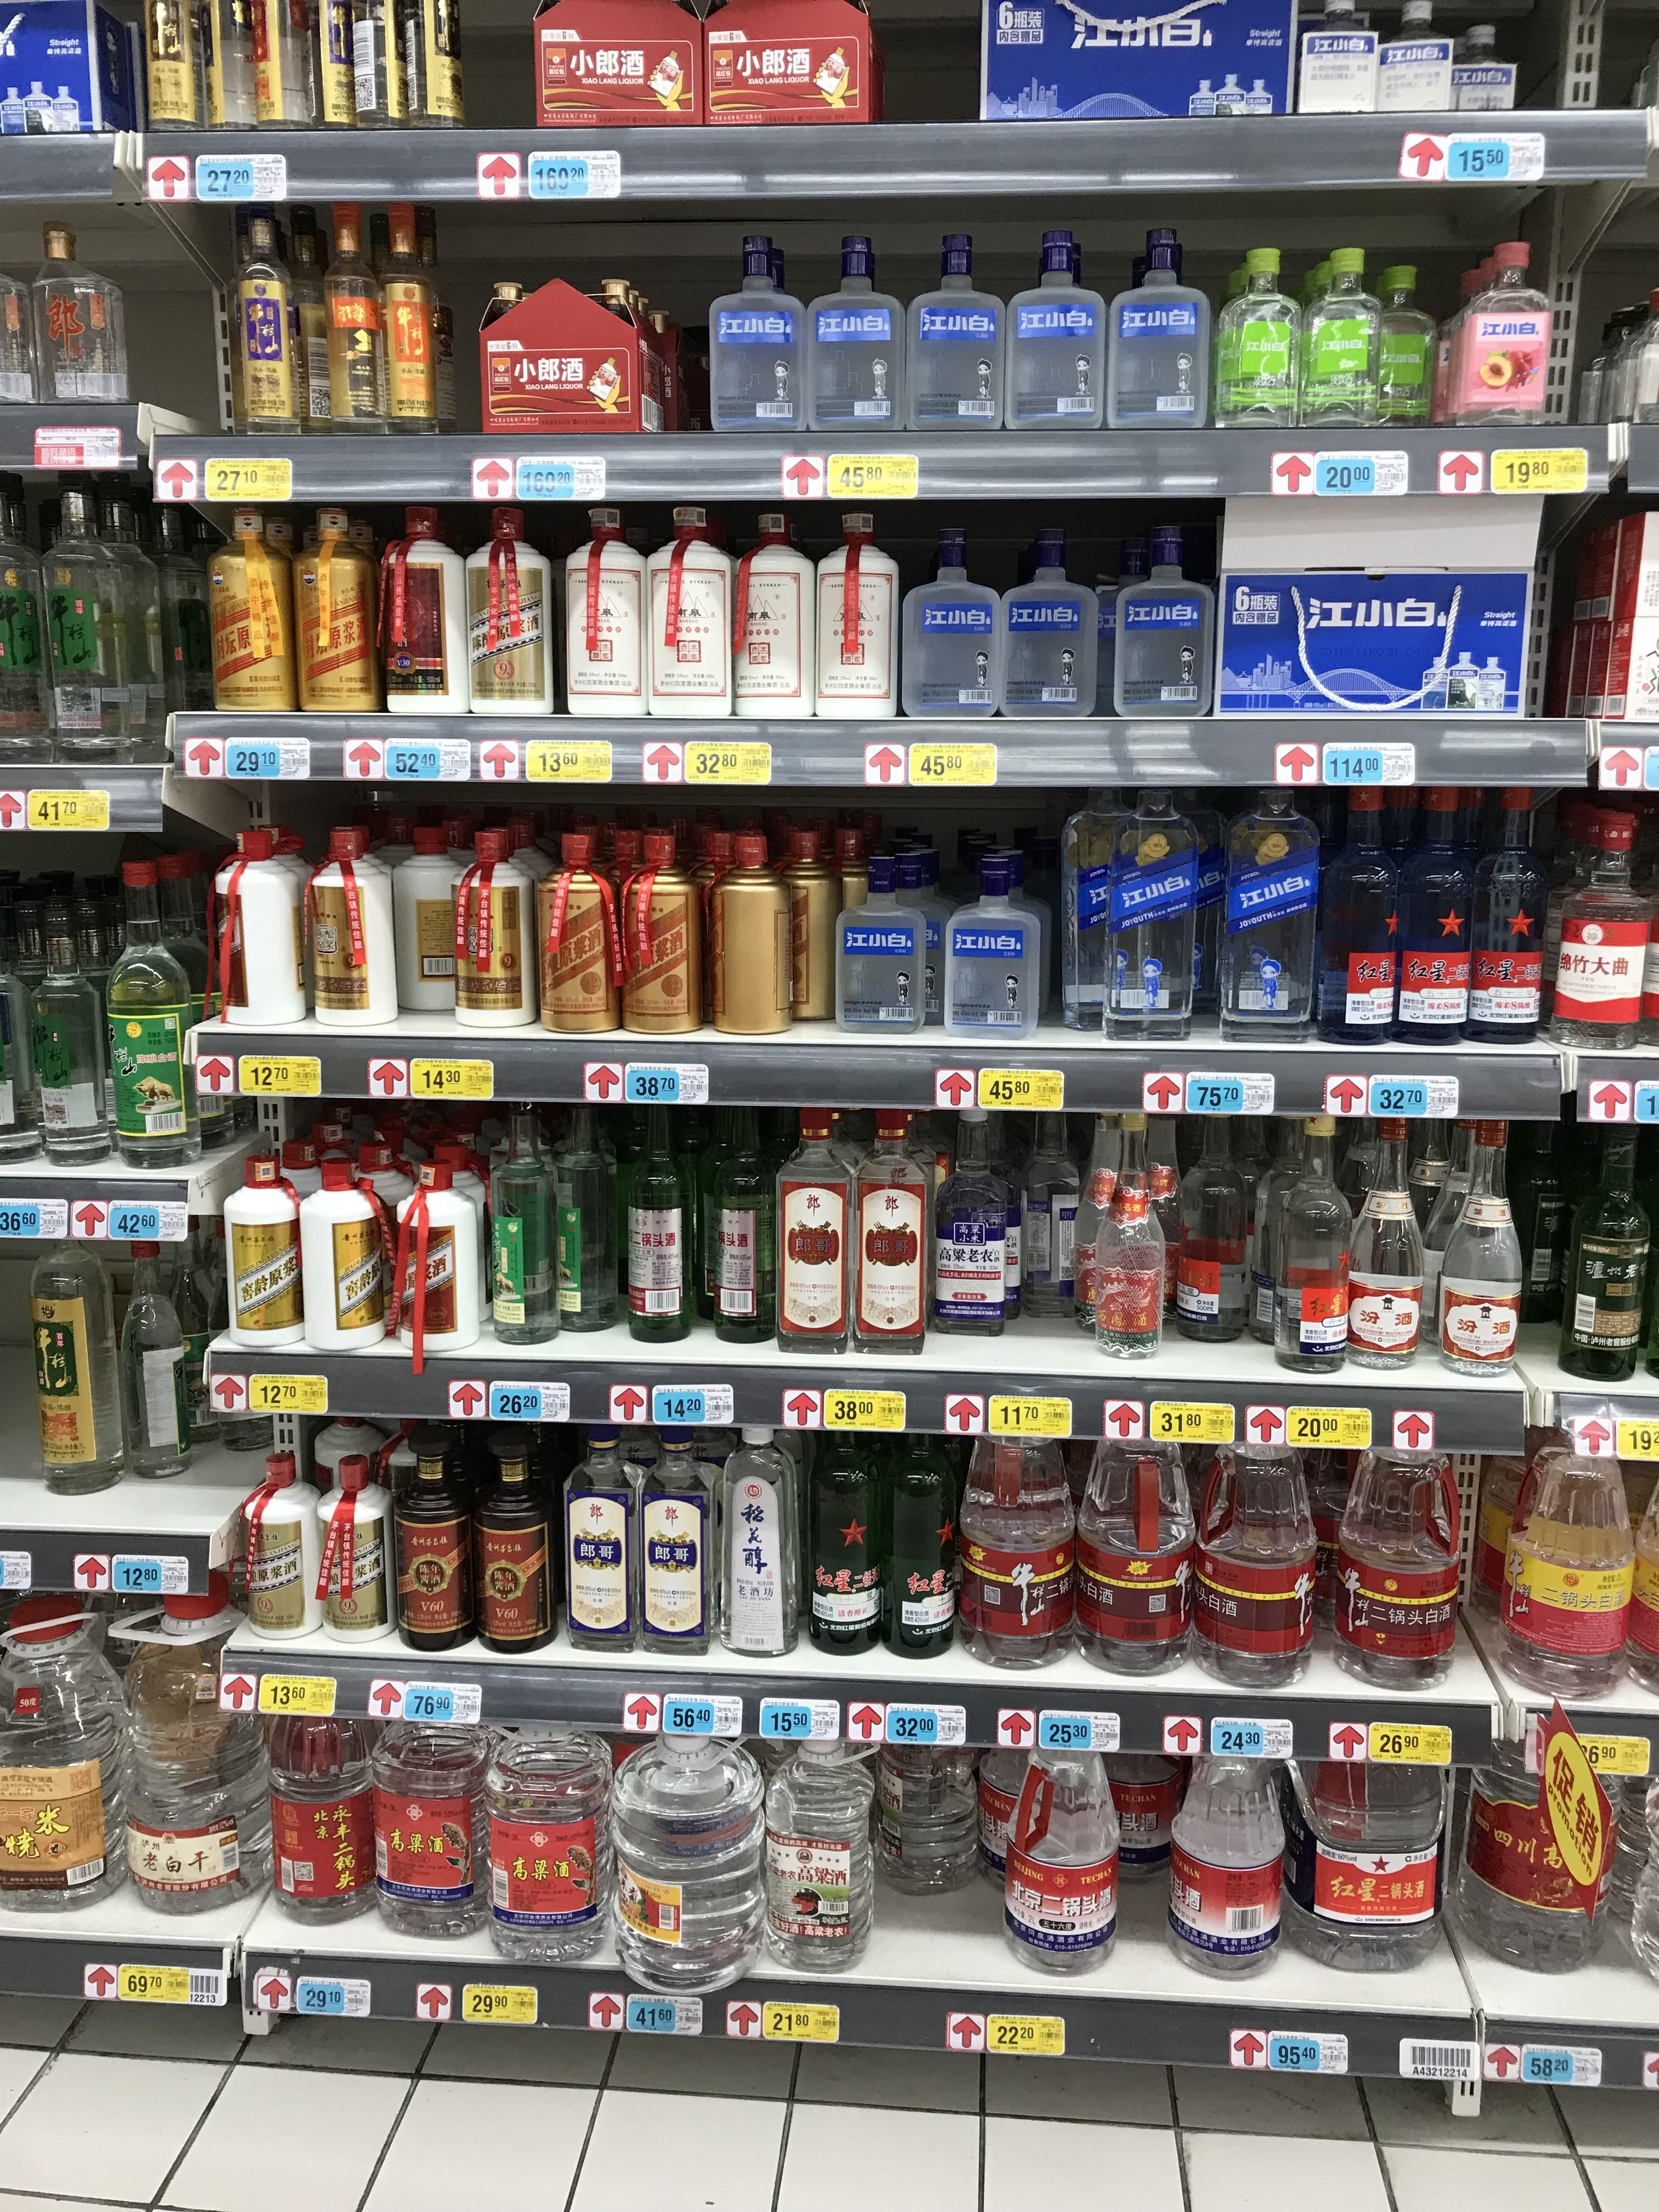bag: (1554, 453, 1656, 732), (488, 265, 645, 444), (410, 1151, 483, 1353)
bottle: (120, 1590, 260, 1918), (610, 1717, 769, 1991), (1462, 1761, 1638, 1991), (0, 1602, 124, 1907), (1497, 1420, 1633, 1695), (1291, 1716, 1446, 1956), (1187, 1409, 1317, 1688), (1331, 1413, 1466, 1681), (30, 474, 146, 768), (1077, 1404, 1195, 1679), (261, 1662, 385, 1925), (103, 857, 206, 1167), (366, 1683, 491, 1928), (756, 1717, 875, 1977), (960, 1407, 1075, 1672), (28, 1207, 134, 1493), (1237, 1413, 1352, 1669), (1162, 1728, 1279, 1977), (1230, 1721, 1344, 1956), (1002, 1730, 1114, 1965), (1558, 1122, 1650, 1381), (1541, 817, 1643, 1049), (863, 1710, 990, 1895), (1389, 784, 1476, 1049), (1438, 1113, 1525, 1378), (1338, 1115, 1427, 1374), (112, 1221, 202, 1475), (1263, 1111, 1351, 1374), (1460, 779, 1546, 1043), (1314, 782, 1399, 1045), (931, 1087, 1021, 1334), (800, 1404, 887, 1658), (716, 1413, 805, 1662), (772, 1094, 856, 1355), (877, 1409, 962, 1663), (291, 482, 380, 723), (1000, 230, 1105, 434), (1108, 521, 1216, 716), (383, 488, 472, 725), (1105, 225, 1204, 428), (854, 1099, 934, 1350), (901, 523, 1002, 721), (1443, 240, 1549, 428), (903, 233, 1000, 437), (214, 482, 296, 725), (708, 242, 807, 441), (239, 1423, 329, 1639), (802, 239, 901, 435), (561, 498, 647, 726), (706, 1089, 779, 1345), (471, 493, 551, 726), (655, 496, 737, 725), (40, 899, 113, 1153), (622, 1087, 695, 1341), (633, 1425, 713, 1656), (732, 500, 814, 725), (397, 1413, 474, 1649), (999, 529, 1093, 719), (474, 1430, 554, 1651), (545, 1092, 619, 1334), (817, 502, 897, 719), (486, 1103, 556, 1348), (563, 1425, 640, 1648), (322, 192, 390, 441), (375, 193, 443, 439), (1509, 1094, 1579, 1329), (624, 834, 702, 1042), (1080, 1157, 1164, 1346), (235, 204, 303, 437), (38, 237, 129, 411), (711, 826, 786, 1035), (1012, 1090, 1086, 1303), (305, 827, 387, 1015), (460, 831, 540, 1022), (544, 833, 620, 1033), (1209, 249, 1297, 423), (223, 1177, 305, 1353), (1297, 249, 1378, 421), (1178, 1153, 1253, 1339), (767, 822, 836, 1019), (1070, 1099, 1131, 1322), (281, 211, 340, 439), (319, 1454, 387, 1637), (1093, 1109, 1155, 1305), (1358, 266, 1429, 425), (343, 2, 415, 134), (192, 5, 263, 138), (132, 3, 202, 136), (403, 3, 472, 136), (249, 3, 319, 134), (1595, 284, 1657, 428), (1565, 279, 1622, 427), (2, 258, 51, 406), (308, 3, 361, 132)
box: (986, 0, 1298, 125), (711, 7, 871, 117)
bucket: (483, 1721, 612, 1940), (1101, 801, 1204, 1038), (941, 850, 1051, 1040), (230, 834, 321, 1019), (296, 1176, 392, 1350), (1086, 1724, 1199, 1869), (392, 843, 462, 1001)
jar: (830, 894, 941, 1031), (1286, 3, 1378, 124), (1370, 3, 1455, 124), (1436, 31, 1518, 125)
others: (1227, 489, 1537, 726), (535, 3, 709, 125), (2, 2, 127, 153), (1516, 7, 1652, 118)
